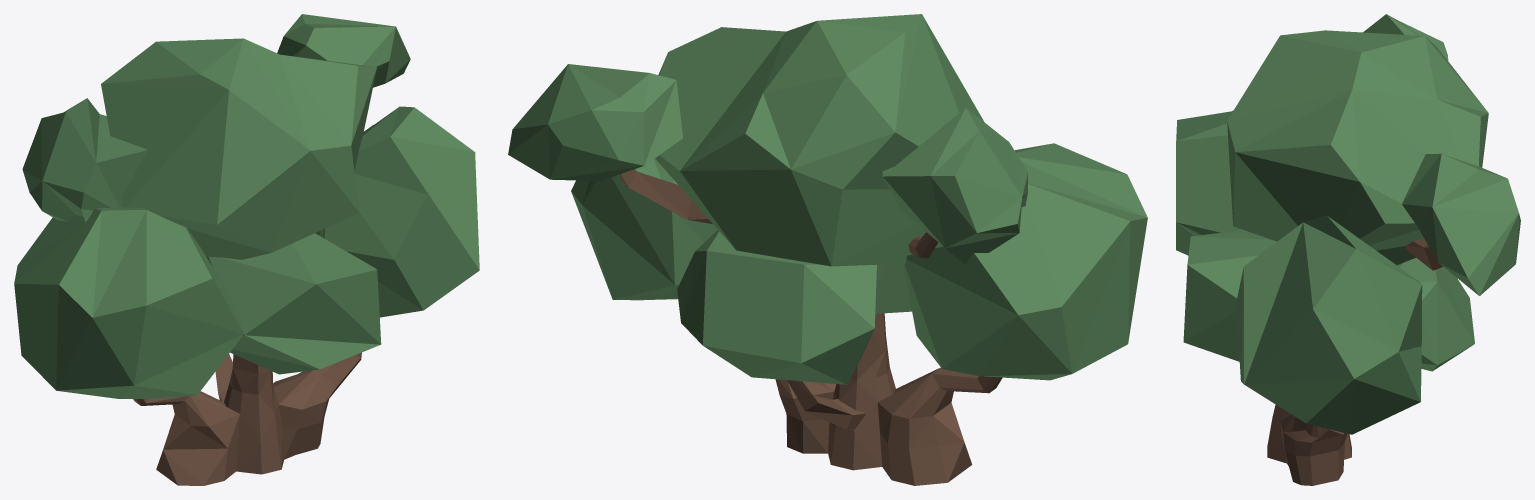
File: _bush_2.glb
The picture shows the model from 3 angles, left to right: view 1: azimuth 30°, elevation 25°; view 2: azimuth 150°, elevation 25°; view 3: azimuth 270°, elevation 25°; orthographic projection. The views are drawn at different scales.
Parts seen in each view (by area): view 1: bush_2; view 2: bush_2; view 3: bush_2.
Part boxes in pixels (x1,y1,x2,y2): bush_2: [14, 14, 479, 485]; bush_2: [508, 14, 1147, 485]; bush_2: [1176, 14, 1520, 485].
Bounding box in the file's own units: 1.61 × 1.34 × 1.03.
1 material, 1 textured.
